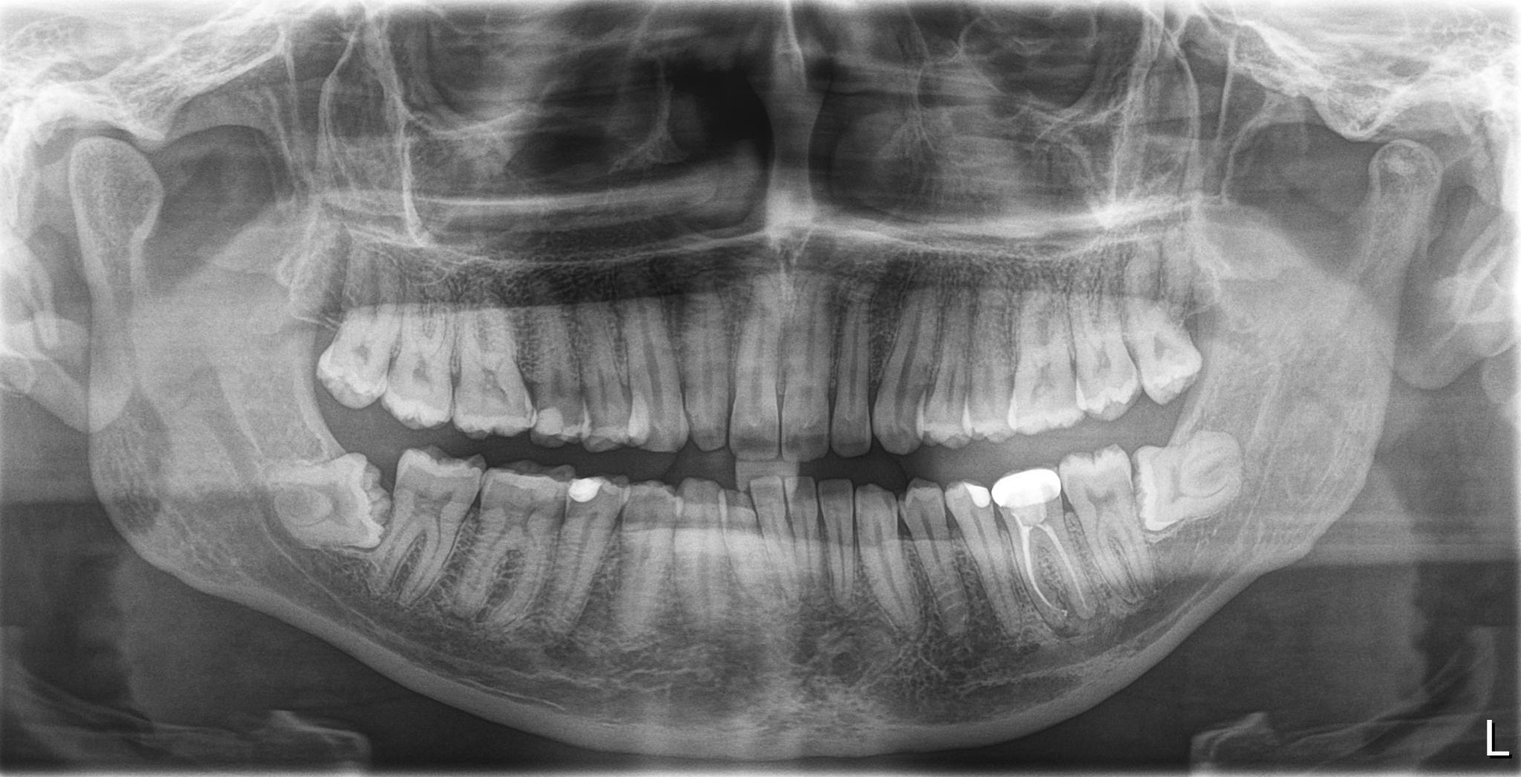Endodontically Treated Tooth: (993, 477, 1075, 619)
Impacted Third Molar: (1133, 453, 1251, 551), (271, 475, 396, 557)
